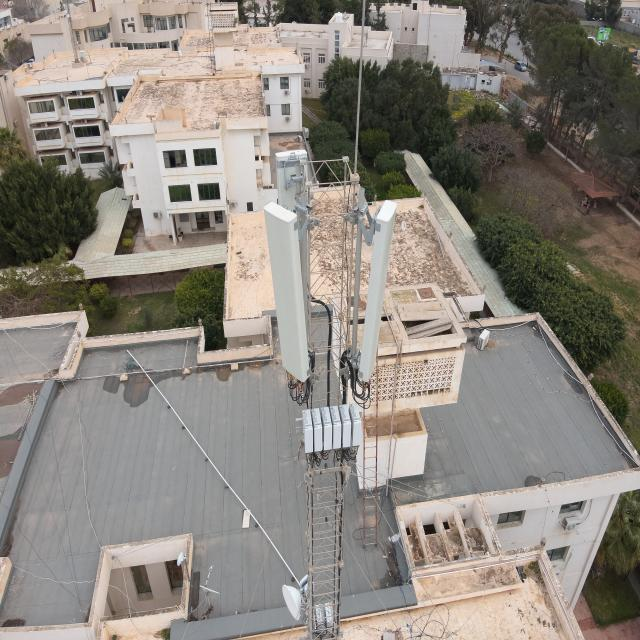antenna: (260, 196, 314, 390), (272, 142, 319, 335), (355, 200, 402, 383)
lighnig-rad: (352, 0, 369, 183)
microware-dish: (282, 569, 316, 629)
power-box: (308, 597, 340, 640)
radio-unit: (300, 398, 366, 459)
